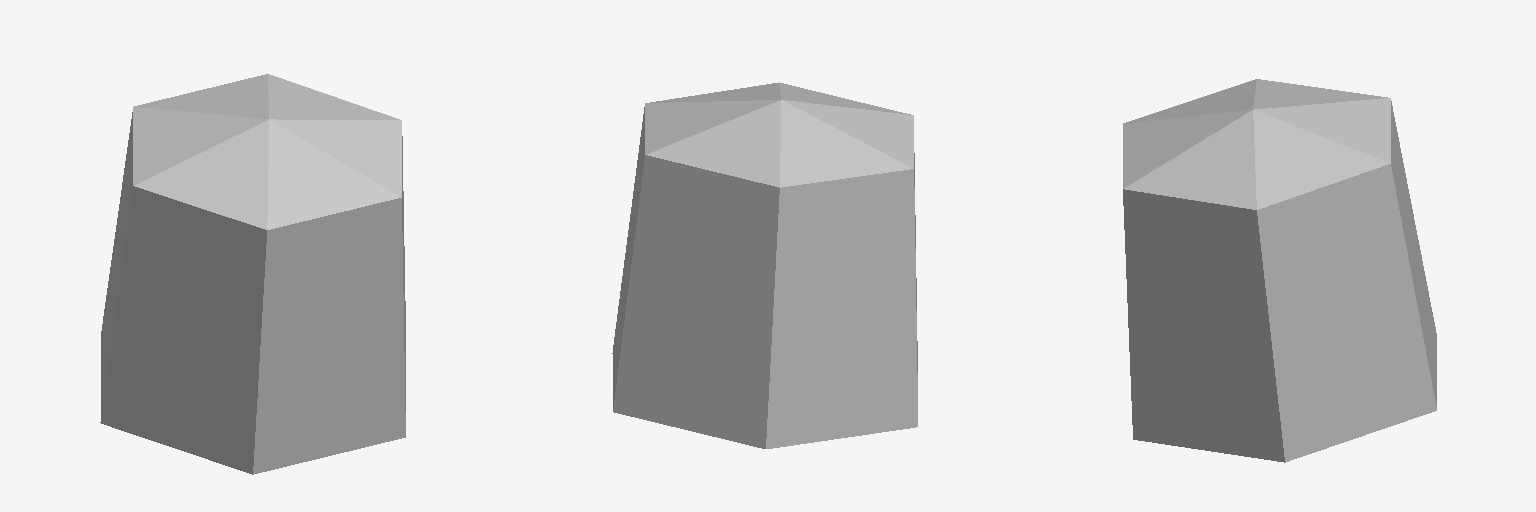
The model's file is led.obj.
3 views of the same model, side by side, from view 1: azimuth 30°, elevation 25°; view 2: azimuth 150°, elevation 25°; view 3: azimuth 270°, elevation 25° (orthographic).
Parts seen in each view (by area): view 1: led1:LED led1:group1 led1:polySurface1; view 2: led1:LED led1:group1 led1:polySurface1; view 3: led1:LED led1:group1 led1:polySurface1.
Part boxes in pixels (left/top/right/bottom): led1:LED led1:group1 led1:polySurface1: left=100, top=74, right=405, bottom=474; led1:LED led1:group1 led1:polySurface1: left=612, top=82, right=917, bottom=448; led1:LED led1:group1 led1:polySurface1: left=1123, top=79, right=1436, bottom=462.
Size of the model in its own units: 0.0011 by 0.001 by 0.001.